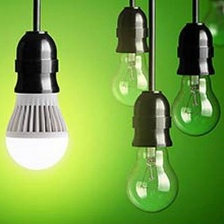light_bulb: (0, 68, 75, 175), (120, 138, 182, 217), (166, 64, 222, 141), (106, 38, 159, 115)
